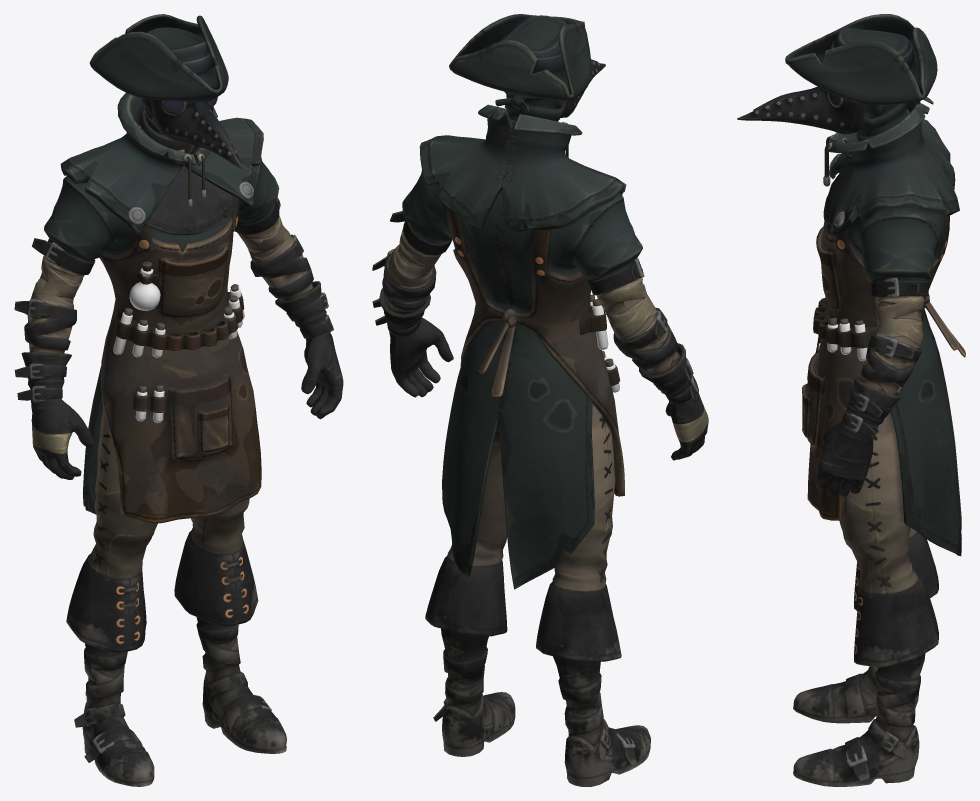
File: plague.glb
3 renders of one model, left to right at view 1: azimuth 30°, elevation 25°; view 2: azimuth 150°, elevation 25°; view 3: azimuth 270°, elevation 25°, orthographic. The views are drawn at different scales.
Parts seen in each view (by area): view 1: aaec4fd4-0cce-49d3-b131-0442fe842817, 38bbcba1-248c-47f9-9c0e-194913cdffb0, c2ad5292-a670-4754-8ed9-d5bac2633e3b, M_MED_Plague_LOD0.mo_primitive2, 9affdbff-9604-4b62-8786-1703bff87d65, 7f1380d5-d2f0-4bfc-809a-7c8d90b9c248, e1f993a0-70a9-4cad-9ed4-7cd801270ea3, 446c1b2b-3feb-44b2-8481-8f18a8cb4a94, 577543b8-1a0d-4175-b97d-4bb9b9fedfb7, 85794ff2-4a59-4854-954a-42de9c2ecc3f, 36311c32-3300-4526-9375-9bcc2e6dec50, 39bfd293-6be5-4121-bfd4-eba0aa125059 (+8 smaller); view 2: f69e2043-d30f-448a-8f29-2c8bed9246c9, 38bbcba1-248c-47f9-9c0e-194913cdffb0, c2ad5292-a670-4754-8ed9-d5bac2633e3b, d2fc538a-05f9-450e-ab78-b26c4fc7abc0, M_MED_Plague_LOD0.mo_primitive2, e1f993a0-70a9-4cad-9ed4-7cd801270ea3, 7f1380d5-d2f0-4bfc-809a-7c8d90b9c248, 36311c32-3300-4526-9375-9bcc2e6dec50, 446c1b2b-3feb-44b2-8481-8f18a8cb4a94, aaec4fd4-0cce-49d3-b131-0442fe842817, 577543b8-1a0d-4175-b97d-4bb9b9fedfb7, 913d7090-9d41-4a4c-8ebf-0e260deb82f3 (+5 smaller); view 3: 38bbcba1-248c-47f9-9c0e-194913cdffb0, M_MED_Plague_LOD0.mo_primitive2, f69e2043-d30f-448a-8f29-2c8bed9246c9, c2ad5292-a670-4754-8ed9-d5bac2633e3b, 7f1380d5-d2f0-4bfc-809a-7c8d90b9c248, 36311c32-3300-4526-9375-9bcc2e6dec50, aaec4fd4-0cce-49d3-b131-0442fe842817, 9affdbff-9604-4b62-8786-1703bff87d65, 0d09dd95-49ea-4524-819e-b8ddeb5151bd, 446c1b2b-3feb-44b2-8481-8f18a8cb4a94, 577543b8-1a0d-4175-b97d-4bb9b9fedfb7, c886a100-e08e-4c76-8a70-a42253568ae9 (+6 smaller).
Boxes of the visible parts, x1=… form: aaec4fd4-0cce-49d3-b131-0442fe842817: x1=100, y1=311, x2=261, y2=523; 38bbcba1-248c-47f9-9c0e-194913cdffb0: x1=66, y1=407, x2=258, y2=652; c2ad5292-a670-4754-8ed9-d5bac2633e3b: x1=24, y1=157, x2=313, y2=353; M_MED_Plague_LOD0.mo_primitive2: x1=89, y1=14, x2=242, y2=168; 9affdbff-9604-4b62-8786-1703bff87d65: x1=66, y1=164, x2=259, y2=330; 7f1380d5-d2f0-4bfc-809a-7c8d90b9c248: x1=82, y1=672, x2=286, y2=786; e1f993a0-70a9-4cad-9ed4-7cd801270ea3: x1=60, y1=132, x2=183, y2=234; 446c1b2b-3feb-44b2-8481-8f18a8cb4a94: x1=84, y1=617, x2=240, y2=708; 577543b8-1a0d-4175-b97d-4bb9b9fedfb7: x1=21, y1=281, x2=333, y2=402; 85794ff2-4a59-4854-954a-42de9c2ecc3f: x1=145, y1=167, x2=239, y2=235; 36311c32-3300-4526-9375-9bcc2e6dec50: x1=185, y1=117, x2=263, y2=207; 39bfd293-6be5-4121-bfd4-eba0aa125059: x1=31, y1=398, x2=94, y2=479; f69e2043-d30f-448a-8f29-2c8bed9246c9: x1=442, y1=321, x2=594, y2=589; 38bbcba1-248c-47f9-9c0e-194913cdffb0: x1=425, y1=403, x2=621, y2=661; c2ad5292-a670-4754-8ed9-d5bac2633e3b: x1=382, y1=171, x2=679, y2=374; d2fc538a-05f9-450e-ab78-b26c4fc7abc0: x1=422, y1=170, x2=610, y2=340; M_MED_Plague_LOD0.mo_primitive2: x1=449, y1=14, x2=605, y2=121; e1f993a0-70a9-4cad-9ed4-7cd801270ea3: x1=501, y1=116, x2=626, y2=230; 7f1380d5-d2f0-4bfc-809a-7c8d90b9c248: x1=442, y1=692, x2=650, y2=786; 36311c32-3300-4526-9375-9bcc2e6dec50: x1=419, y1=110, x2=513, y2=227; 446c1b2b-3feb-44b2-8481-8f18a8cb4a94: x1=441, y1=628, x2=603, y2=746; aaec4fd4-0cce-49d3-b131-0442fe842817: x1=460, y1=315, x2=624, y2=496; 577543b8-1a0d-4175-b97d-4bb9b9fedfb7: x1=379, y1=288, x2=698, y2=404; 913d7090-9d41-4a4c-8ebf-0e260deb82f3: x1=395, y1=322, x2=451, y2=396; 38bbcba1-248c-47f9-9c0e-194913cdffb0: x1=839, y1=412, x2=938, y2=667; M_MED_Plague_LOD0.mo_primitive2: x1=737, y1=14, x2=937, y2=136; f69e2043-d30f-448a-8f29-2c8bed9246c9: x1=890, y1=308, x2=961, y2=556; c2ad5292-a670-4754-8ed9-d5bac2633e3b: x1=860, y1=216, x2=938, y2=394; 7f1380d5-d2f0-4bfc-809a-7c8d90b9c248: x1=793, y1=666, x2=919, y2=786; 36311c32-3300-4526-9375-9bcc2e6dec50: x1=830, y1=122, x2=959, y2=235; aaec4fd4-0cce-49d3-b131-0442fe842817: x1=802, y1=339, x2=903, y2=520; 9affdbff-9604-4b62-8786-1703bff87d65: x1=816, y1=209, x2=893, y2=327; 0d09dd95-49ea-4524-819e-b8ddeb5151bd: x1=816, y1=421, x2=873, y2=496; 446c1b2b-3feb-44b2-8481-8f18a8cb4a94: x1=875, y1=653, x2=925, y2=742; 577543b8-1a0d-4175-b97d-4bb9b9fedfb7: x1=841, y1=377, x2=901, y2=433; c886a100-e08e-4c76-8a70-a42253568ae9: x1=827, y1=97, x2=933, y2=153.
Bounding box in the file's own units: 1.14 × 2.5 × 0.7228.
Materials: 3 (2 with a texture image).
